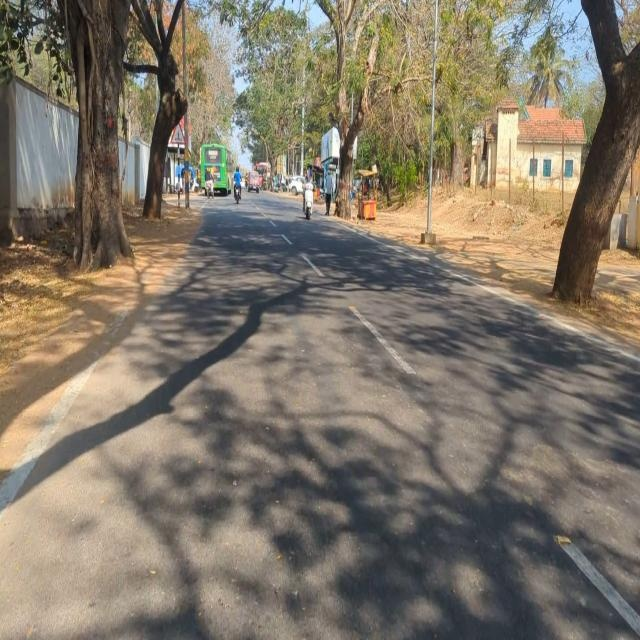bien_nguy_hiem: (171, 124, 188, 147)
